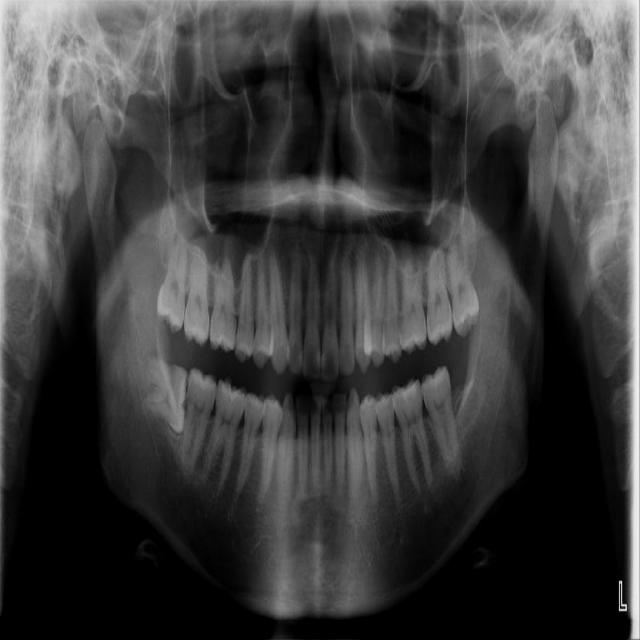impacted tooth: (136, 357, 190, 431), (155, 234, 189, 328), (447, 243, 480, 335)
